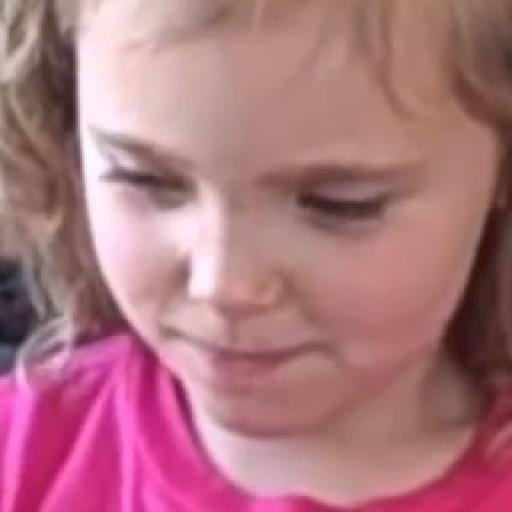Autism: (46, 0, 450, 382)
